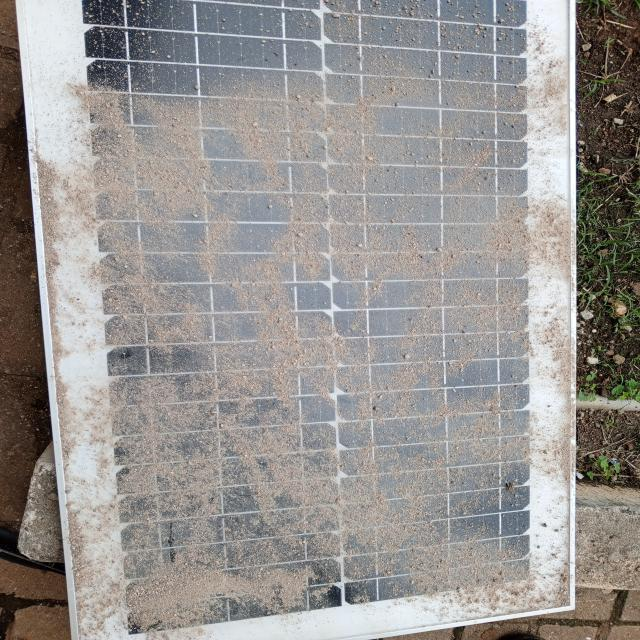Anomaly Solar Panel: (90, 36, 563, 608)
Surface Contaminant: (90, 36, 563, 608)
